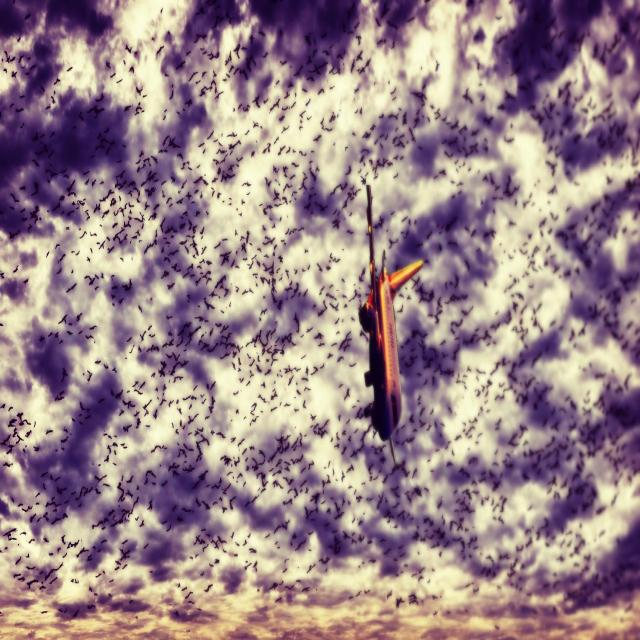airplane: (357, 183, 424, 464)
